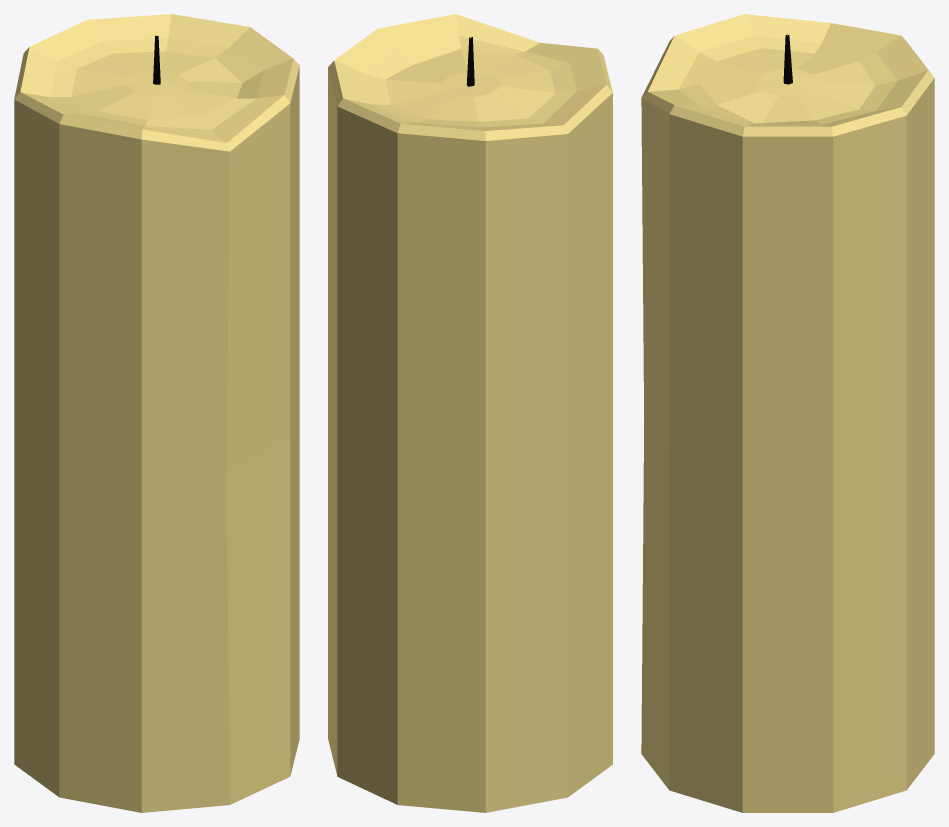
Rendered from Candle_big.fbx.
3 views of the same model, side by side, from view 1: azimuth 30°, elevation 25°; view 2: azimuth 150°, elevation 25°; view 3: azimuth 270°, elevation 25° (orthographic).
Visible parts, largest first — view 1: Candle; view 2: Candle; view 3: Candle.
Boxes of the visible parts, bbox=[...] form: Candle: bbox=[14, 14, 299, 812]; Candle: bbox=[328, 14, 612, 812]; Candle: bbox=[641, 14, 934, 812].
Size of the model in its own units: 6.11 by 17.39 by 6.42.
